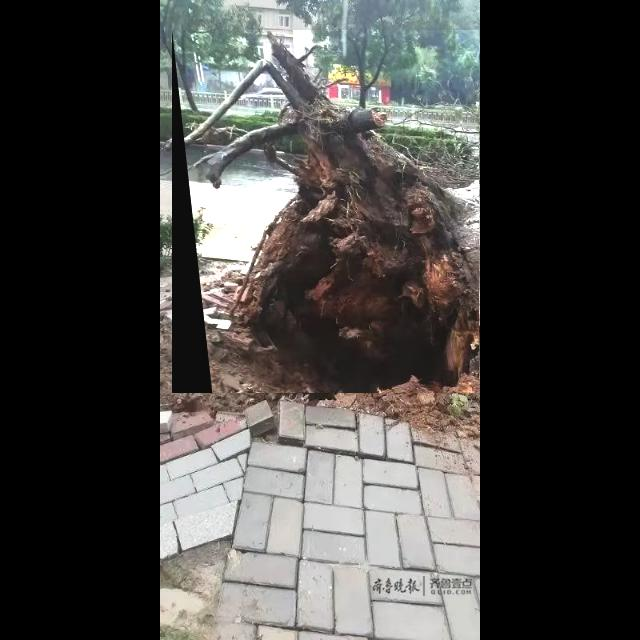Fallen Tree: (172, 30, 480, 394)
